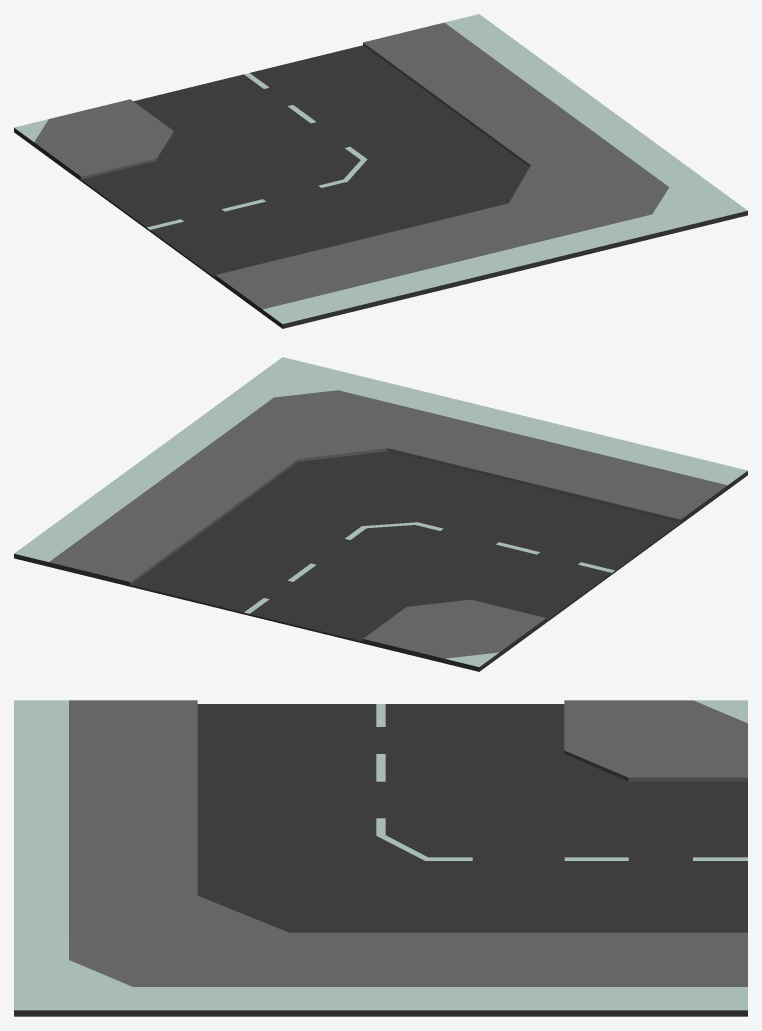
File: roadturn_2.0.fbx
3 renders of one model, top to bottom at view 1: azimuth 30°, elevation 25°; view 2: azimuth 150°, elevation 25°; view 3: azimuth 270°, elevation 25°, orthographic. The views are drawn at different scales.
Parts seen in each view (by area): view 1: Cube; view 2: Cube; view 3: Cube.
Part boxes in pixels (<box>): Cube: <box>14,14,747,328</box>; Cube: <box>14,357,747,671</box>; Cube: <box>14,700,747,1016</box>.
Bounding box in the file's own units: 40 × 0.3953 × 40.
